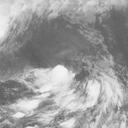cyclone: (46, 56, 120, 112)
